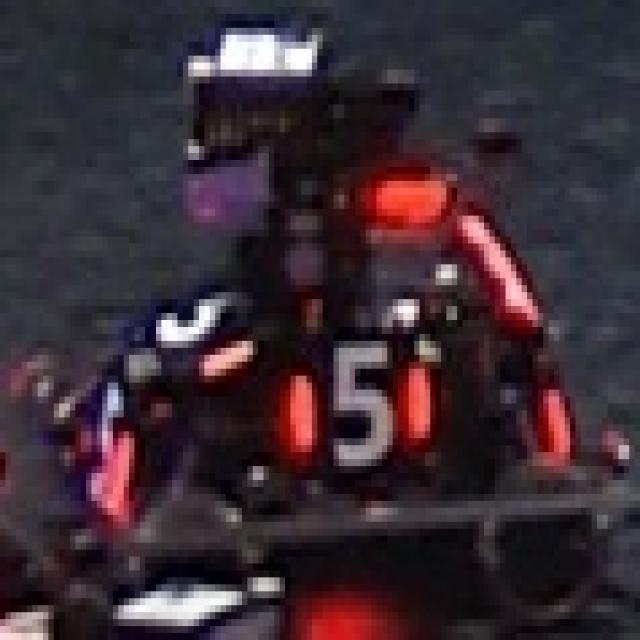R5: (285, 313, 430, 480), (140, 258, 263, 382), (64, 376, 134, 514)
